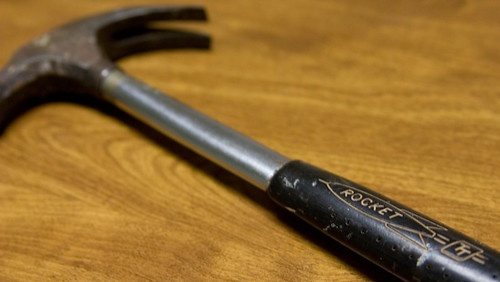hammer: (1, 4, 500, 281)
